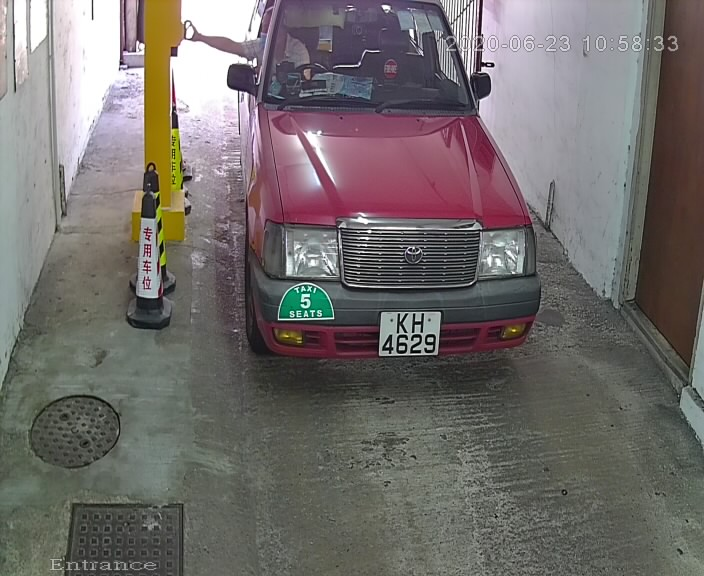taxi: (205, 1, 557, 379)
taxi_mark: (267, 277, 350, 330)
